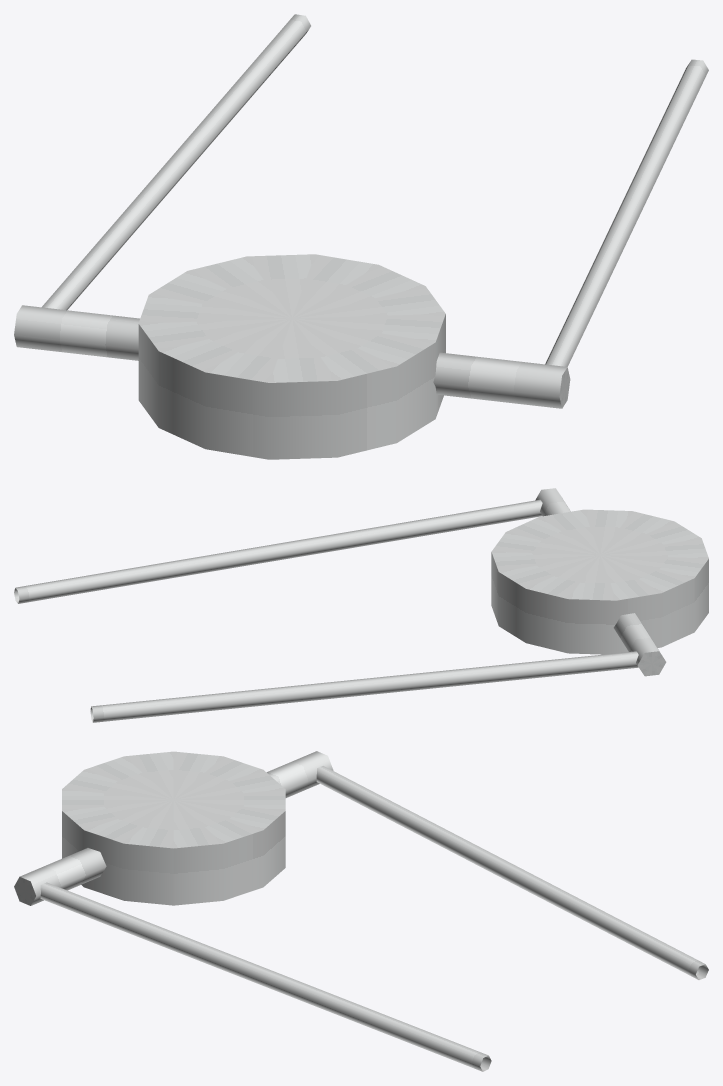
Rendered from nycsignalarm_diagonal6_c0.obj.
The picture shows the model from 3 angles, top to bottom: view 1: azimuth 30°, elevation 25°; view 2: azimuth 150°, elevation 25°; view 3: azimuth 270°, elevation 25°; orthographic projection. The views are drawn at different scales.
Visible parts, largest first — view 1: nycsignalarm_diagonal6_c0; view 2: nycsignalarm_diagonal6_c0; view 3: nycsignalarm_diagonal6_c0.
Boxes of the visible parts, <box> form: nycsignalarm_diagonal6_c0: <box>14,14,708,459</box>; nycsignalarm_diagonal6_c0: <box>14,488,708,722</box>; nycsignalarm_diagonal6_c0: <box>14,751,708,1071</box>.
Size of the model in its own units: 2.48 by 0.225 by 2.48.
